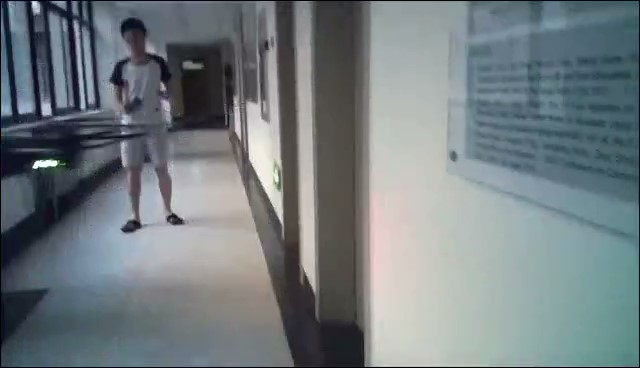drone: (1, 113, 160, 195)
person: (106, 17, 187, 235)
